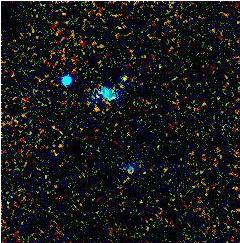star: (106, 60, 136, 90)
